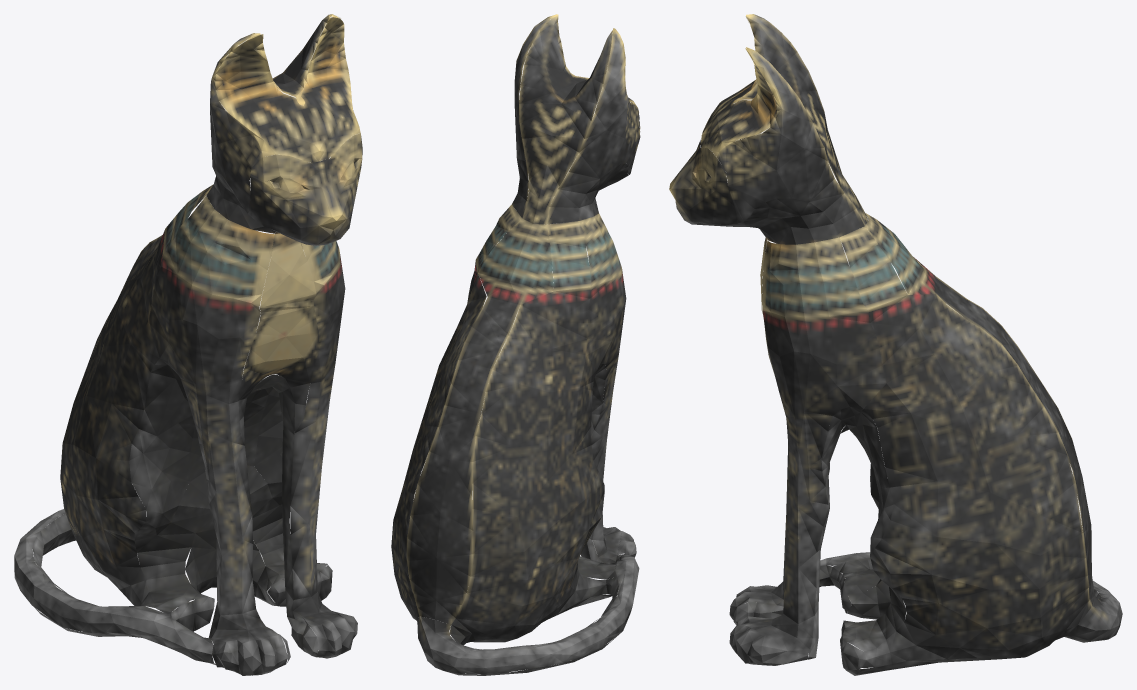
The model's file is cat.glb.
3 renders of one model, left to right at view 1: azimuth 30°, elevation 25°; view 2: azimuth 150°, elevation 25°; view 3: azimuth 270°, elevation 25°, orthographic. The views are drawn at different scales.
Parts seen in each view (by area): view 1: Cat; view 2: Cat; view 3: Cat.
Part boxes in pixels (bbox=[...]): Cat: bbox=[14, 14, 362, 675]; Cat: bbox=[391, 14, 640, 675]; Cat: bbox=[669, 14, 1122, 675].
Size of the model in its own units: 0.7519 by 1.9 by 1.27.
Materials: 1 (1 with a texture image).
